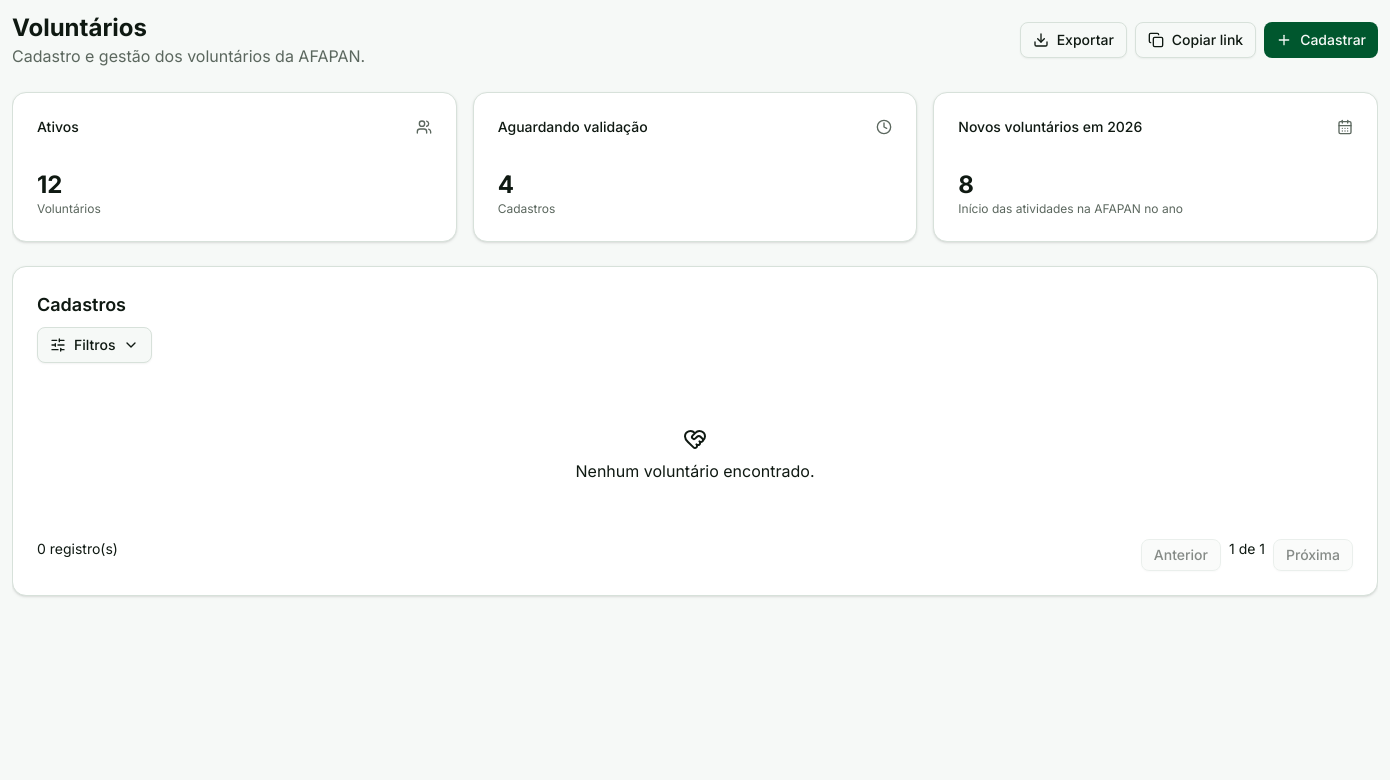
Test case: listagem de voluntários com cadastro permanente › CA-003: listagem indisponível não impede acesso e cópia do link
Click the button "Copiar link".
click(1195, 40)  # box [1135, 22, 1256, 58]
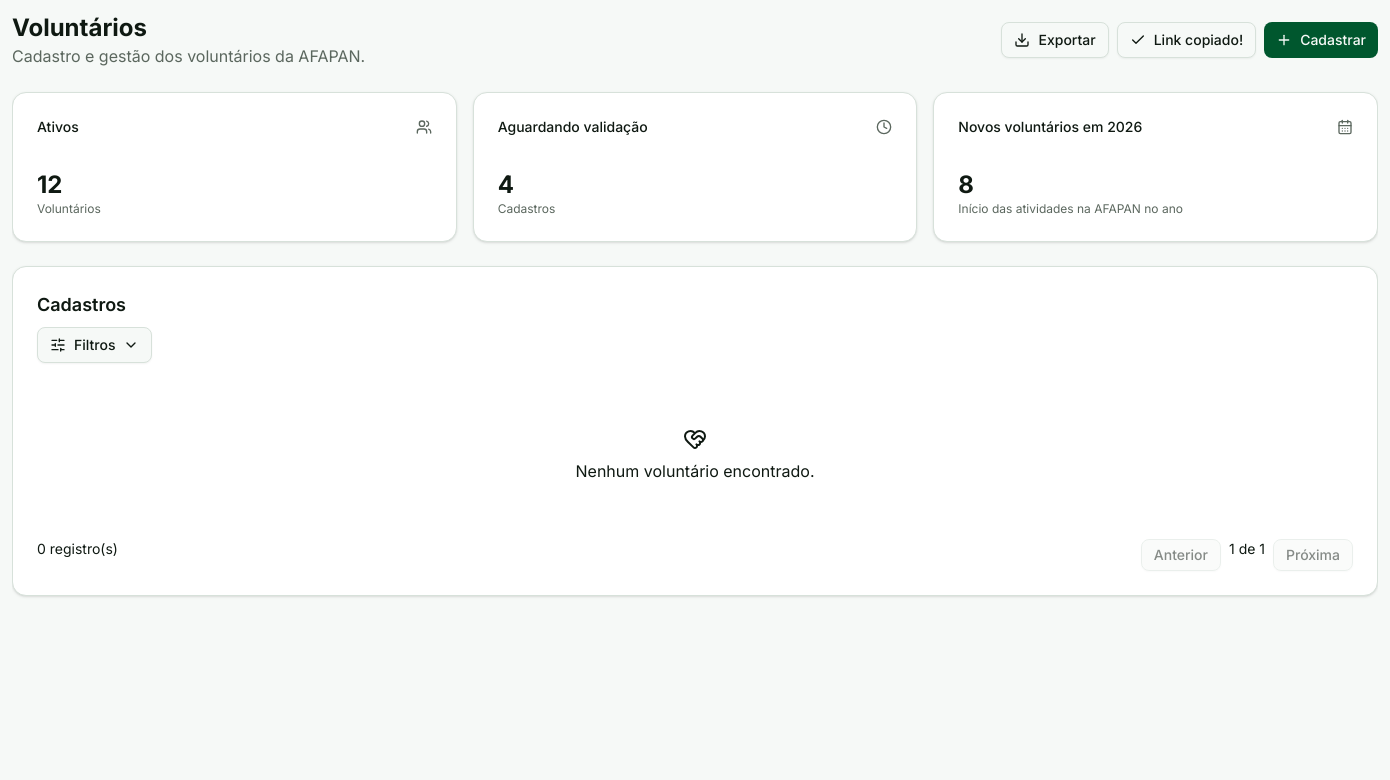
expect the button "Link copiado!" is shown: met, box [1117, 22, 1256, 58]
